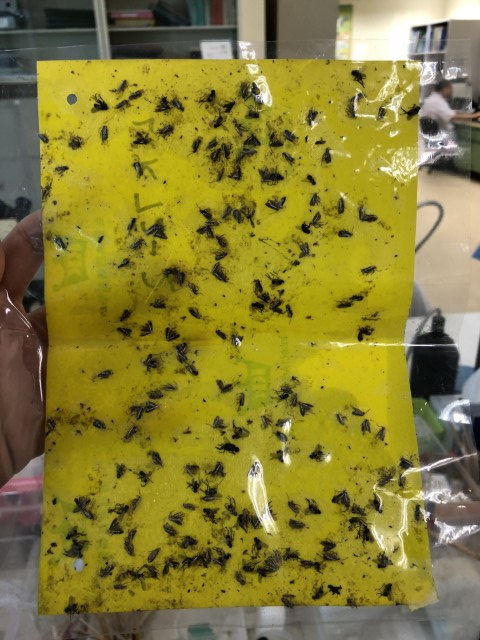DBM: (71, 497, 96, 521), (329, 486, 352, 510), (284, 492, 305, 516), (264, 195, 288, 215), (319, 535, 345, 553), (139, 350, 161, 371), (205, 414, 230, 432), (194, 201, 215, 222), (104, 515, 125, 536), (301, 105, 320, 128), (319, 550, 350, 564), (128, 490, 145, 515), (152, 94, 172, 115), (165, 508, 185, 529), (297, 399, 318, 419), (52, 234, 72, 254), (186, 135, 204, 157), (188, 551, 210, 569), (345, 90, 368, 107), (307, 188, 325, 209), (183, 305, 204, 323), (162, 556, 180, 577), (174, 341, 191, 363), (284, 517, 307, 533), (261, 555, 280, 574), (397, 453, 415, 473), (137, 319, 155, 339), (146, 388, 170, 403), (256, 164, 274, 184), (282, 301, 297, 325), (318, 146, 335, 167), (154, 121, 175, 138), (209, 269, 231, 285), (121, 537, 137, 559), (335, 191, 349, 216), (148, 451, 166, 470), (144, 545, 162, 564), (280, 129, 300, 146), (152, 223, 169, 243), (181, 461, 201, 478), (374, 103, 390, 124), (237, 79, 251, 103), (141, 400, 163, 415), (220, 139, 235, 161), (121, 424, 139, 442), (217, 377, 235, 395), (256, 414, 274, 432), (333, 409, 350, 428), (229, 332, 246, 351), (350, 404, 371, 419), (95, 563, 116, 578), (373, 421, 387, 443), (232, 390, 246, 412), (164, 325, 181, 343), (126, 403, 144, 420), (160, 521, 178, 538), (227, 164, 244, 182), (308, 210, 324, 229), (129, 159, 145, 178), (122, 525, 141, 541), (181, 362, 200, 378), (359, 264, 382, 277), (126, 88, 147, 102), (144, 221, 161, 238), (169, 96, 185, 114), (243, 131, 261, 147), (268, 297, 284, 315), (376, 472, 394, 488), (337, 225, 355, 240), (297, 241, 312, 259), (359, 417, 373, 436), (160, 380, 179, 394), (209, 147, 223, 166), (94, 368, 116, 380), (218, 204, 234, 220), (91, 416, 107, 432), (209, 461, 225, 477), (204, 136, 220, 152), (97, 123, 109, 144), (299, 558, 318, 571), (36, 130, 51, 146), (247, 515, 263, 530), (271, 546, 283, 566), (214, 325, 229, 341), (281, 151, 296, 166), (232, 121, 246, 137), (212, 555, 229, 568), (232, 208, 244, 226), (116, 326, 134, 338), (45, 417, 58, 433), (208, 260, 225, 272), (201, 218, 221, 228), (179, 555, 192, 570), (203, 224, 215, 240), (362, 215, 380, 225), (199, 495, 221, 503), (289, 391, 299, 408), (117, 258, 131, 270), (358, 206, 365, 220)
